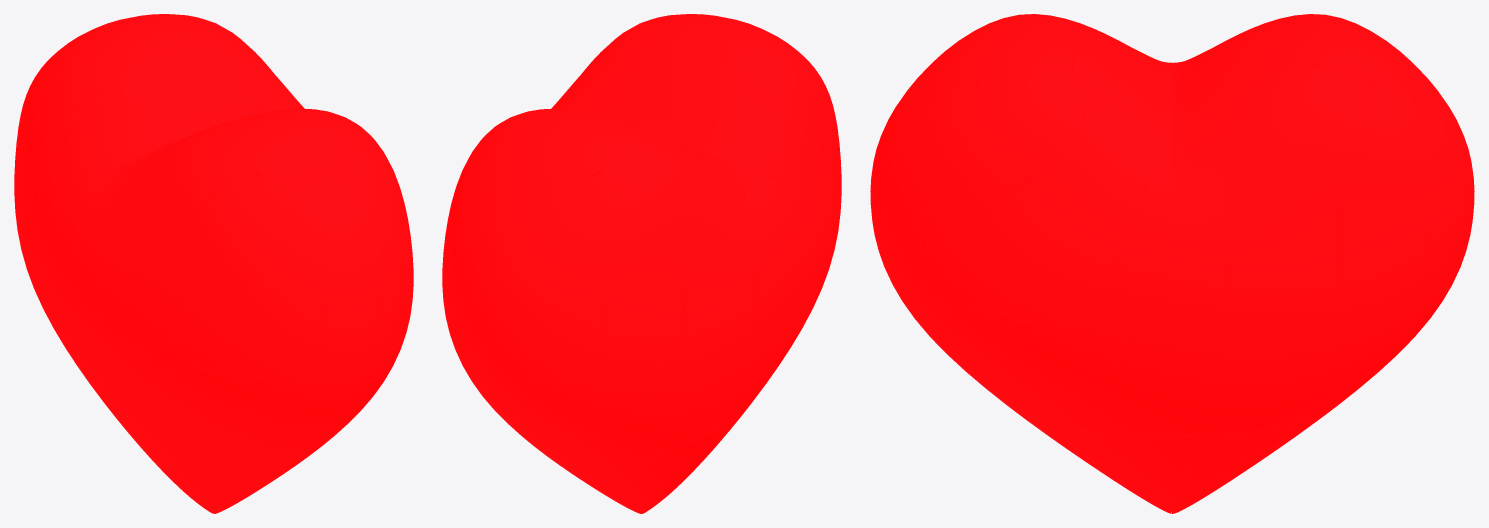
File: BrokenHeart.fbx
The picture shows the model from 3 angles, left to right: view 1: azimuth 30°, elevation 25°; view 2: azimuth 150°, elevation 25°; view 3: azimuth 270°, elevation 25°; orthographic projection. The views are drawn at different scales.
Parts seen in each view (by area): view 1: Cube_cell.001, Cube_cell.037, Cube_cell.077, Cube_cell.056, Cube_cell.076, Cube_cell.075, Cube_cell.021, Cube_cell.058, Cube_cell.029, Cube_cell.039, Cube_cell.028, Cube_cell.078 (+24 smaller); view 2: Cube_cell.005, Cube_cell.060, Cube_cell.053, Cube_cell.033, Cube_cell.052, Cube_cell.051, Cube_cell.032, Cube_cell.036, Cube_cell.019, Cube_cell.025, Cube_cell.018, Cube_cell.055 (+24 smaller); view 3: Cube_cell.071, Cube_cell.085, Cube_cell.066, Cube_cell.007, Cube_cell.003, Cube_cell.010, Cube_cell.031, Cube_cell.054, Cube_cell.049, Cube_cell.026, Cube_cell.034, Cube_cell.022 (+23 smaller).
Part boxes in pixels (<box>): Cube_cell.001: <box>169,174,299,302</box>; Cube_cell.037: <box>116,41,259,133</box>; Cube_cell.077: <box>99,217,177,360</box>; Cube_cell.056: <box>288,169,382,285</box>; Cube_cell.076: <box>172,257,251,378</box>; Cube_cell.075: <box>250,272,321,380</box>; Cube_cell.021: <box>46,87,155,187</box>; Cube_cell.058: <box>219,109,352,183</box>; Cube_cell.029: <box>168,358,270,463</box>; Cube_cell.039: <box>100,329,210,456</box>; Cube_cell.028: <box>157,129,256,226</box>; Cube_cell.078: <box>320,273,377,377</box>; Cube_cell.005: <box>556,174,686,302</box>; Cube_cell.060: <box>596,41,739,133</box>; Cube_cell.053: <box>678,217,756,360</box>; Cube_cell.033: <box>473,169,567,285</box>; Cube_cell.052: <box>604,257,683,378</box>; Cube_cell.051: <box>534,272,605,380</box>; Cube_cell.032: <box>700,87,809,187</box>; Cube_cell.036: <box>503,109,636,184</box>; Cube_cell.019: <box>585,358,687,463</box>; Cube_cell.025: <box>644,329,755,456</box>; Cube_cell.018: <box>599,129,698,226</box>; Cube_cell.055: <box>478,273,535,377</box>; Cube_cell.071: <box>1230,175,1340,327</box>; Cube_cell.085: <box>1004,175,1114,327</box>; Cube_cell.066: <box>1113,234,1231,332</box>; Cube_cell.007: <box>1316,79,1450,212</box>; Cube_cell.003: <box>894,80,1029,212</box>; Cube_cell.010: <box>1117,330,1227,436</box>; Cube_cell.031: <box>1220,321,1330,432</box>; Cube_cell.054: <box>1014,321,1124,432</box>; Cube_cell.049: <box>1051,94,1172,217</box>; Cube_cell.026: <box>1172,94,1293,217</box>; Cube_cell.034: <box>972,65,1092,177</box>; Cube_cell.022: <box>1252,65,1371,177</box>.
Bounding box in the file's own units: 181 × 260 × 296.
